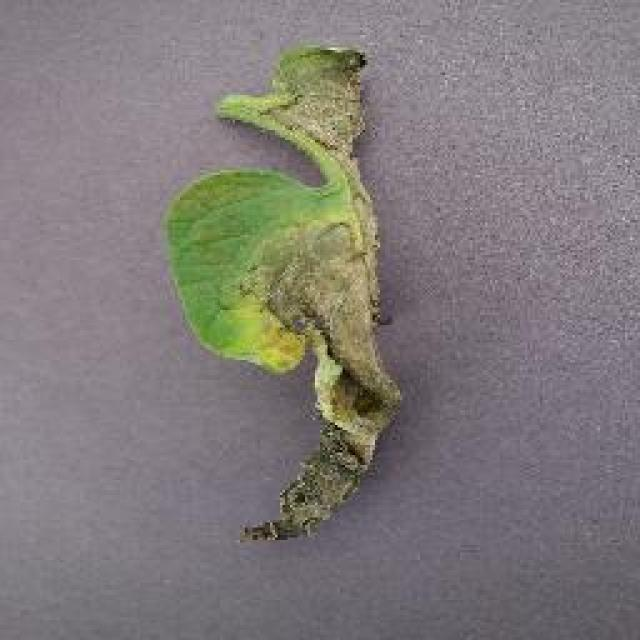Tomato Late Blight: (197, 188, 450, 562)
